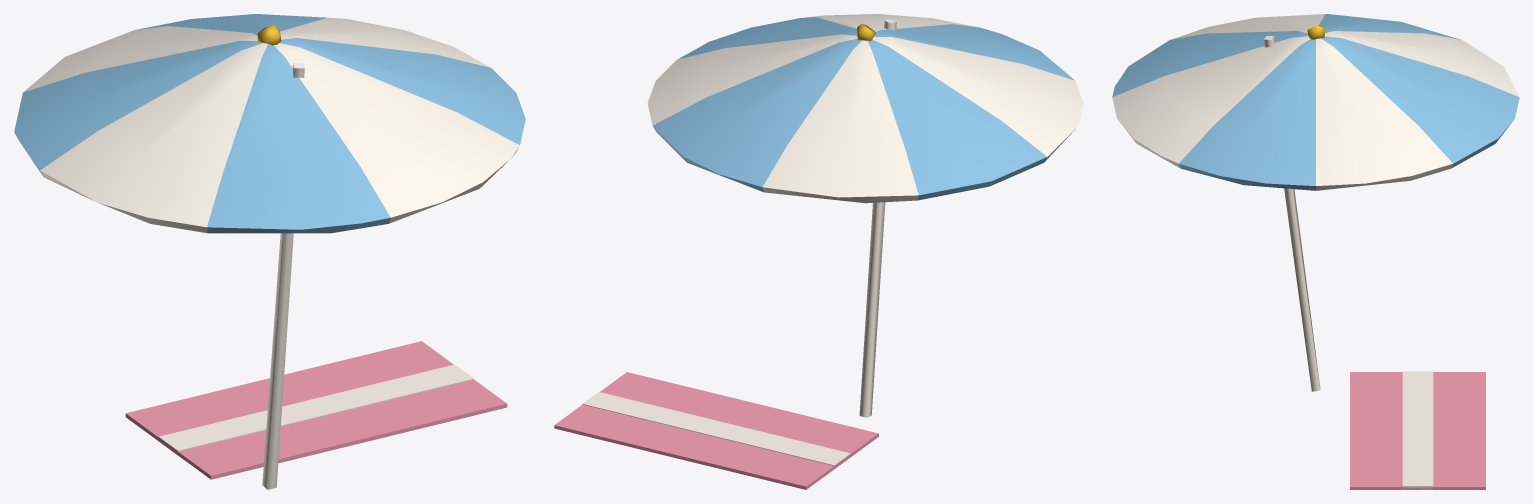
File: beach_umbrella.glb
3 views of the same model, side by side, from view 1: azimuth 30°, elevation 25°; view 2: azimuth 150°, elevation 25°; view 3: azimuth 270°, elevation 25° (orthographic). The views are drawn at different scales.
Visible parts, largest first — view 1: beach_umbrella; view 2: beach_umbrella; view 3: beach_umbrella.
Part boxes in pixels (left/top/right/bottom): beach_umbrella: left=14, top=14, right=525, bottom=489; beach_umbrella: left=554, top=14, right=1083, bottom=489; beach_umbrella: left=1112, top=14, right=1519, bottom=489.
Bounding box in the file's own units: 2.6 × 2.38 × 2.4.
Materials: 1 (1 with a texture image).
